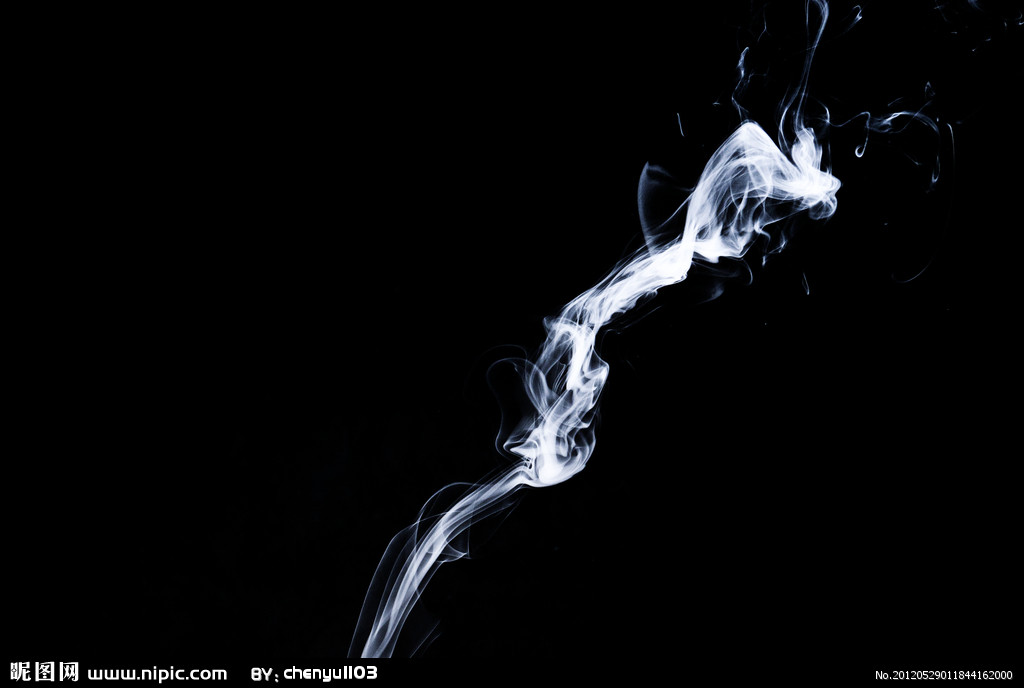smoke: (612, 105, 879, 289), (494, 309, 624, 507), (357, 539, 458, 619)
